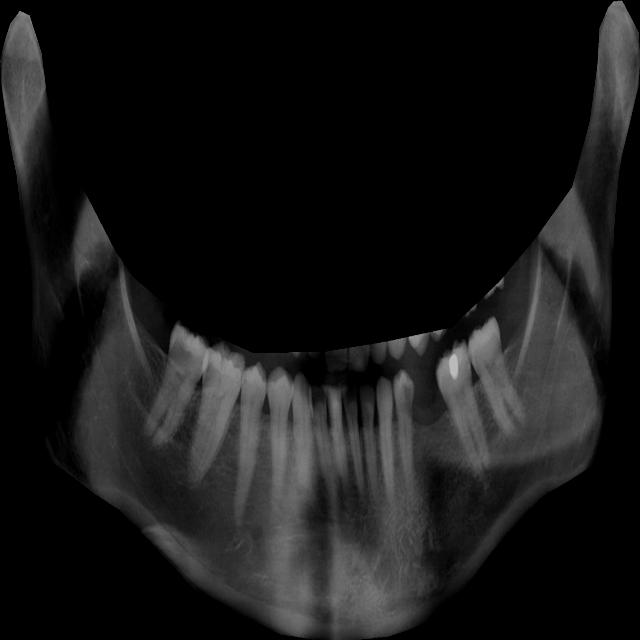mandibula: (0, 0, 640, 640)
